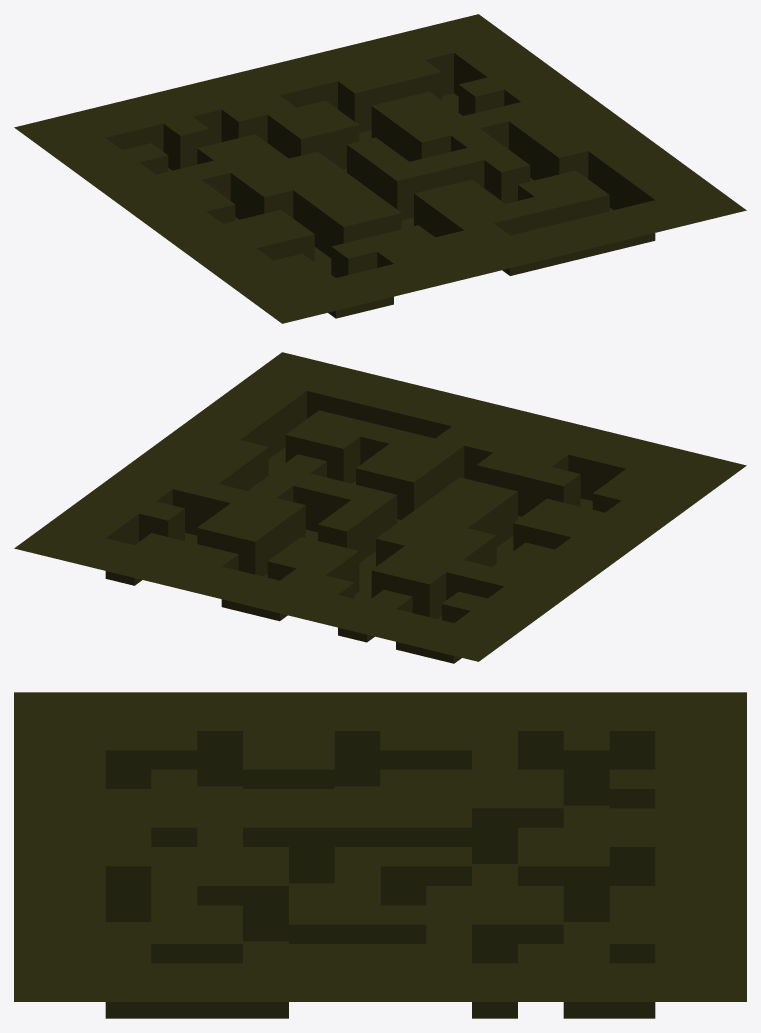
File: maze.obj
The picture shows the model from 3 angles, top to bottom: view 1: azimuth 30°, elevation 25°; view 2: azimuth 150°, elevation 25°; view 3: azimuth 270°, elevation 25°; orthographic projection. The views are drawn at different scales.
Visible parts, largest first — view 1: Plane_Plane.001; view 2: Plane_Plane.001; view 3: Plane_Plane.001.
Boxes of the visible parts, left/top/right/bottom form: Plane_Plane.001: left=14, top=14, right=746, bottom=323; Plane_Plane.001: left=14, top=352, right=746, bottom=663; Plane_Plane.001: left=14, top=692, right=746, bottom=1018.
Bounding box in the file's own units: 100 × 8.35 × 100.
